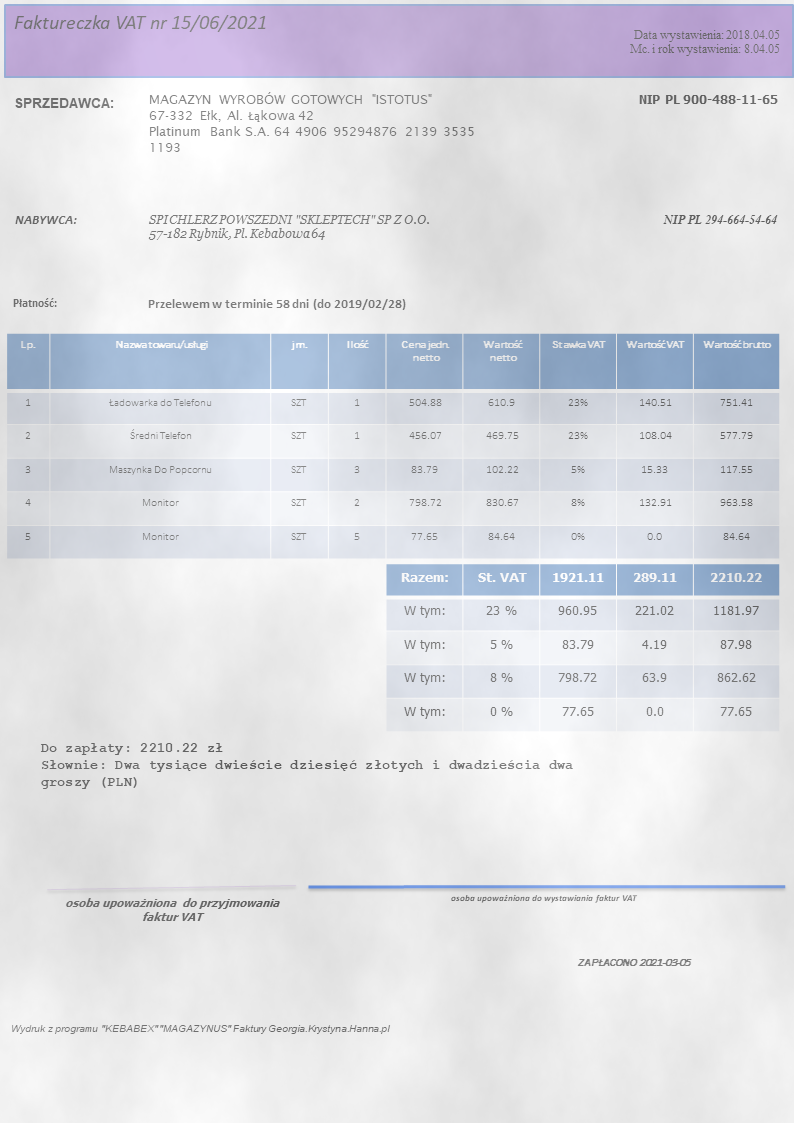Table: (5, 332, 781, 560), (385, 562, 781, 732)
TextBox: (38, 740, 577, 791), (146, 89, 477, 154), (147, 211, 432, 243), (63, 894, 283, 925), (8, 1020, 393, 1036), (12, 12, 268, 33), (628, 25, 782, 55), (146, 297, 407, 311), (635, 91, 779, 108), (448, 892, 639, 904), (12, 92, 116, 112), (661, 211, 778, 228), (575, 954, 692, 970), (12, 212, 79, 227), (11, 294, 59, 311)
